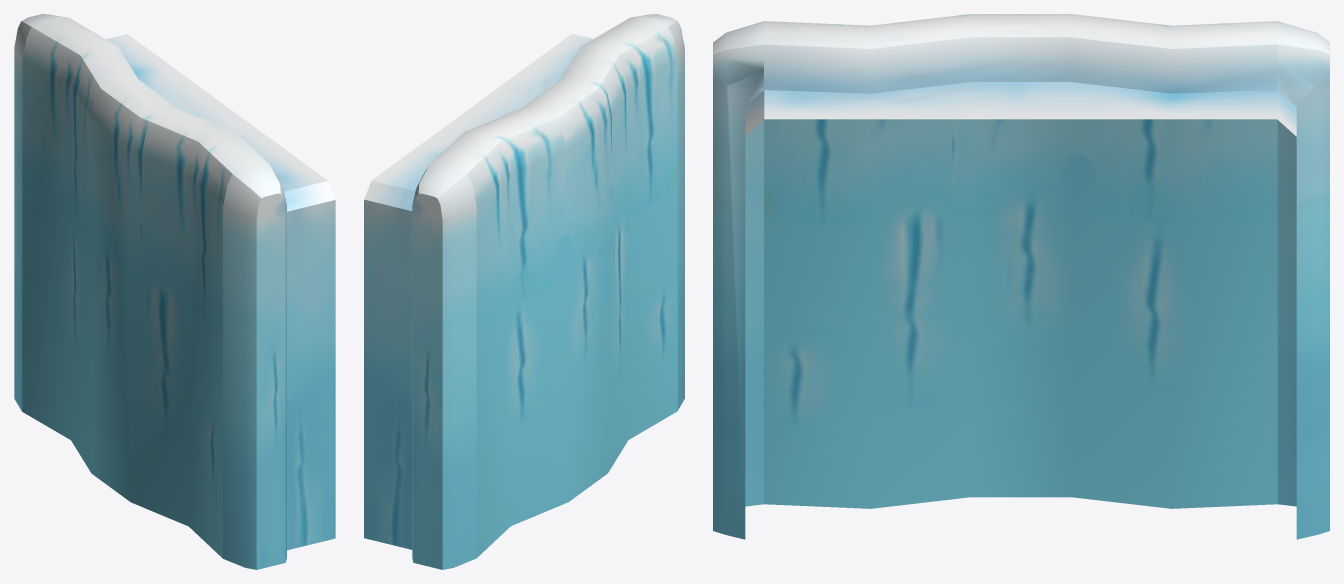
File: Dike_End.FBX
3 views of the same model, side by side, from view 1: azimuth 30°, elevation 25°; view 2: azimuth 150°, elevation 25°; view 3: azimuth 270°, elevation 25° (orthographic). The views are drawn at different scales.
Parts seen in each view (by area): view 1: Object273; view 2: Object273; view 3: Object273.
Part boxes in pixels (bbox=[...]): Object273: bbox=[14, 14, 335, 569]; Object273: bbox=[364, 14, 684, 569]; Object273: bbox=[713, 14, 1329, 539].
Size of the model in its own units: 134 by 425 by 482.
